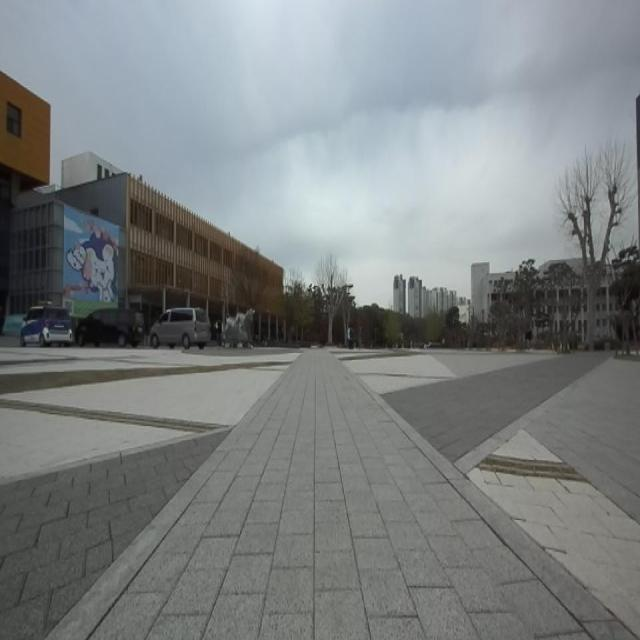sidewalk: (50, 353, 632, 639), (0, 430, 228, 639), (384, 351, 609, 463)
